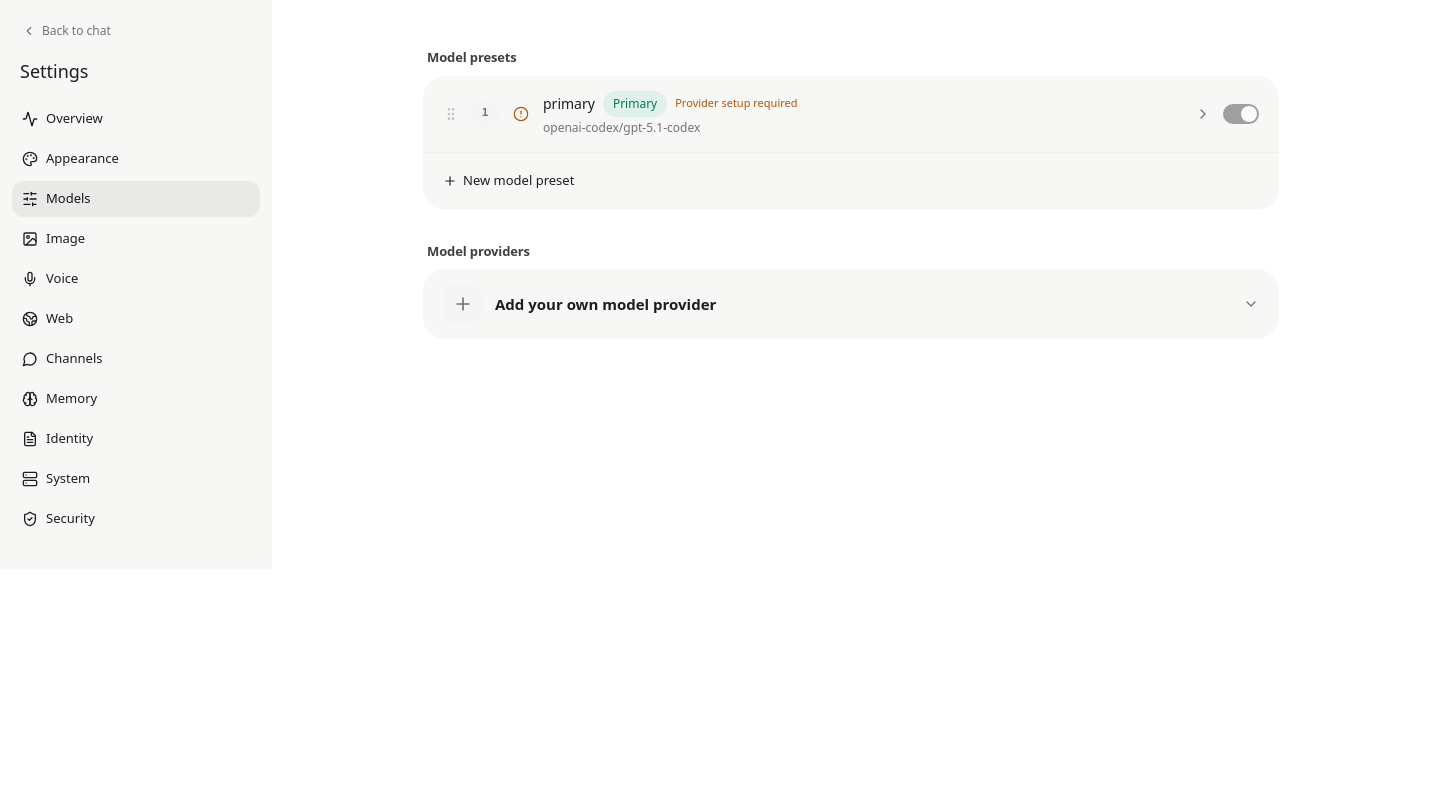
Scenario: Settings models › marks the current model as unconfigured when its provider needs setup
The width and height of the screenshot is (1440, 810).
Expected: the text "Provider setup required" is shown, x1=675 y1=95 x2=798 y2=112
Click the button that starts with "primary" at (569, 104), box x1=471 y1=90 x2=1211 y2=136
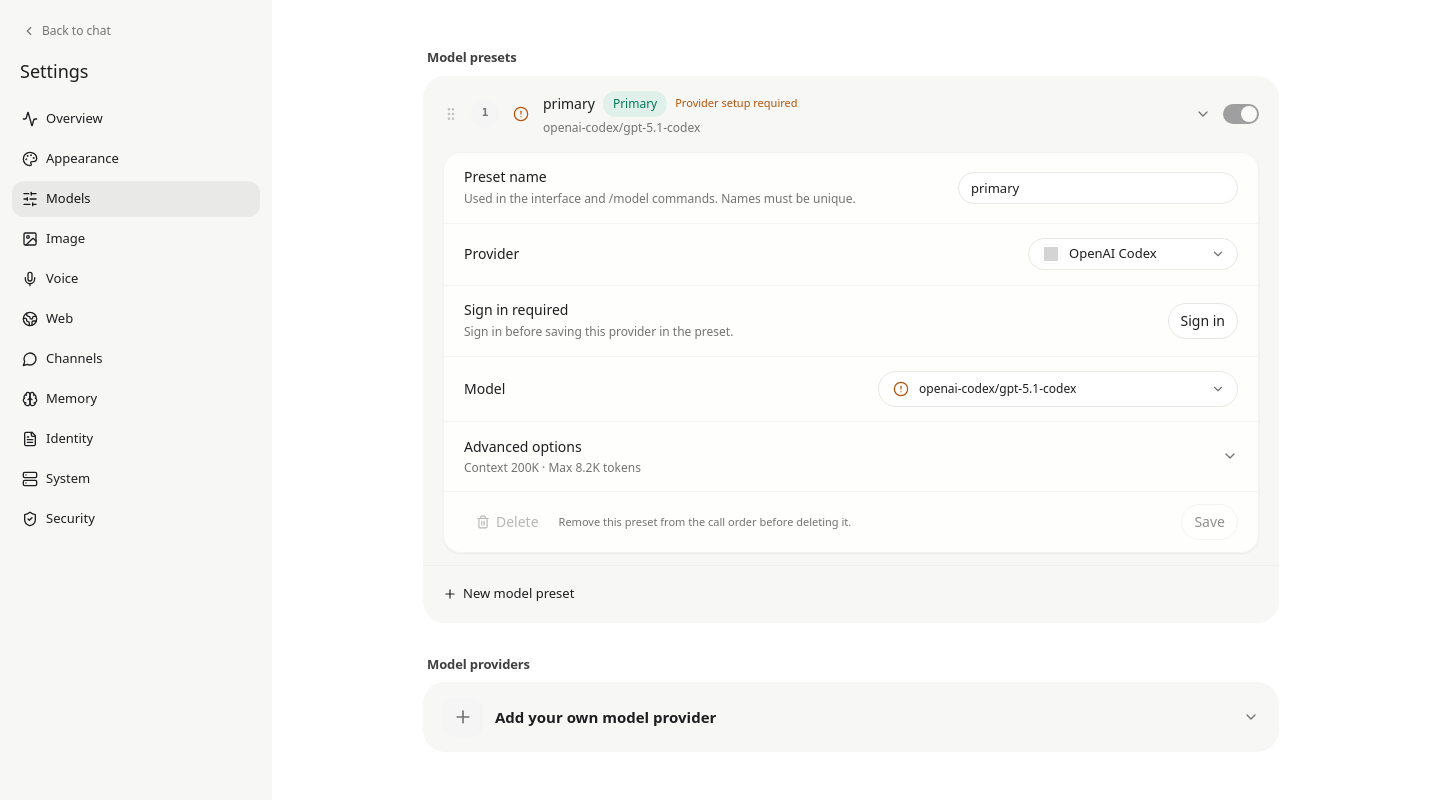
Now the text "Sign in before saving this provider in the preset." is shown, box x1=464 y1=322 x2=733 y2=342
Now the button "Sign in" is shown, box x1=1168 y1=302 x2=1238 y2=338
